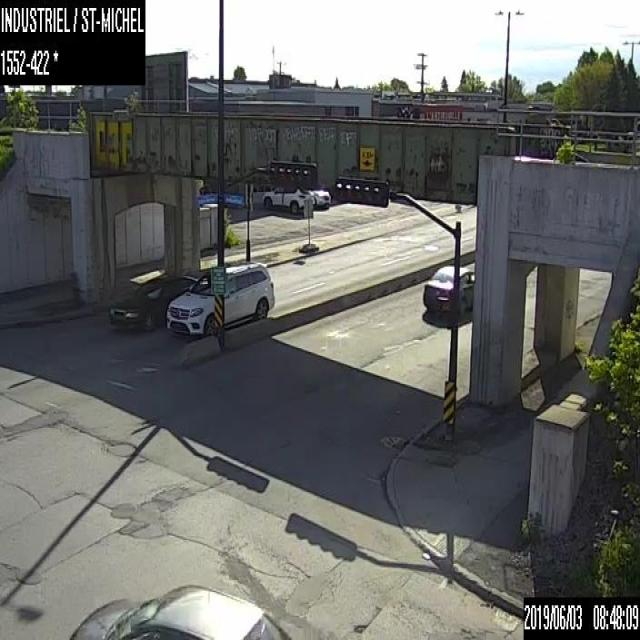vehicle: (68, 582, 291, 638), (166, 258, 274, 334), (109, 274, 196, 329), (421, 264, 474, 311), (262, 182, 314, 213), (307, 186, 329, 209)
